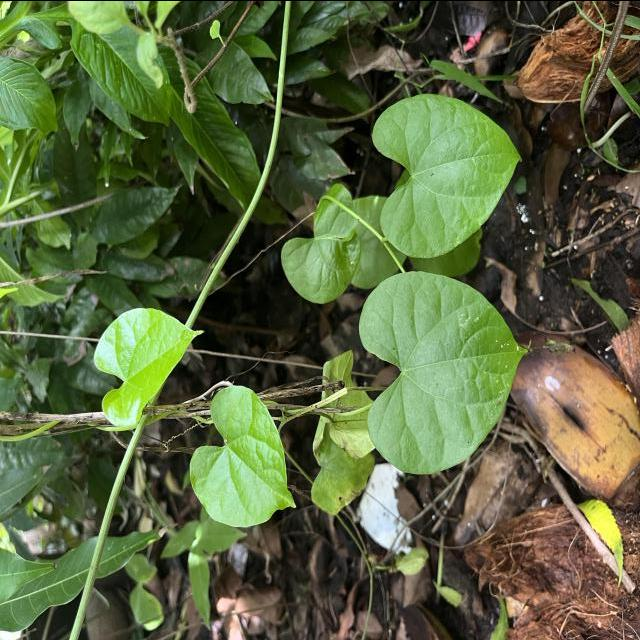Tinospora cordifolia: (356, 266, 530, 476), (368, 90, 526, 260), (187, 380, 299, 530), (92, 304, 210, 431)
